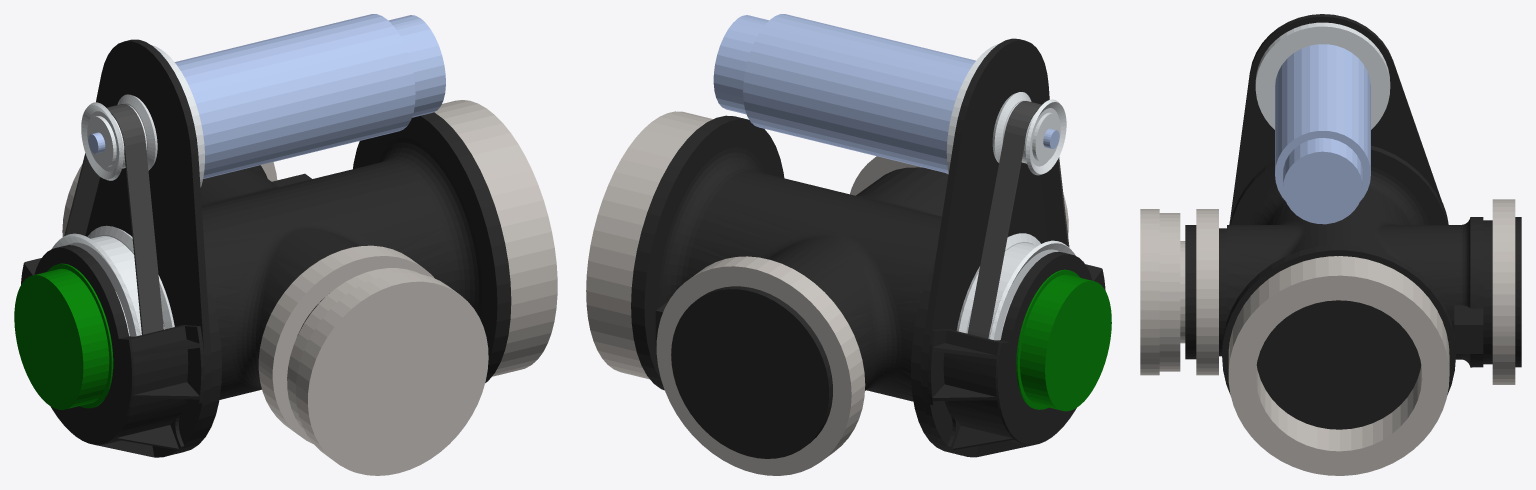
Rendered from RARM_LINK0_mesh.dae.
3 views of the same model, side by side, from view 1: azimuth 30°, elevation 25°; view 2: azimuth 150°, elevation 25°; view 3: azimuth 270°, elevation 25° (orthographic). The views are drawn at different scales.
Parts seen in each view (by area): view 1: RARM_LINK0 (×13); view 2: RARM_LINK0 (×13); view 3: RARM_LINK0 (×10).
Boxes of the visible parts, x1,y1,x2,y2 form: RARM_LINK0 (×13): [14, 14, 557, 475]; RARM_LINK0 (×13): [586, 14, 1111, 475]; RARM_LINK0 (×10): [1140, 14, 1521, 475].
Size of the model in its own units: 0.1264 by 0.1137 by 0.119.
